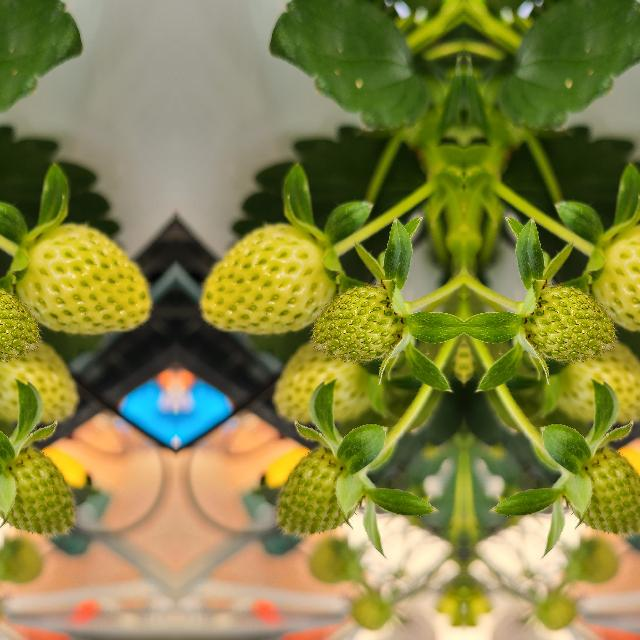Health_25: (311, 286, 403, 360), (523, 286, 615, 360), (0, 285, 39, 360)
